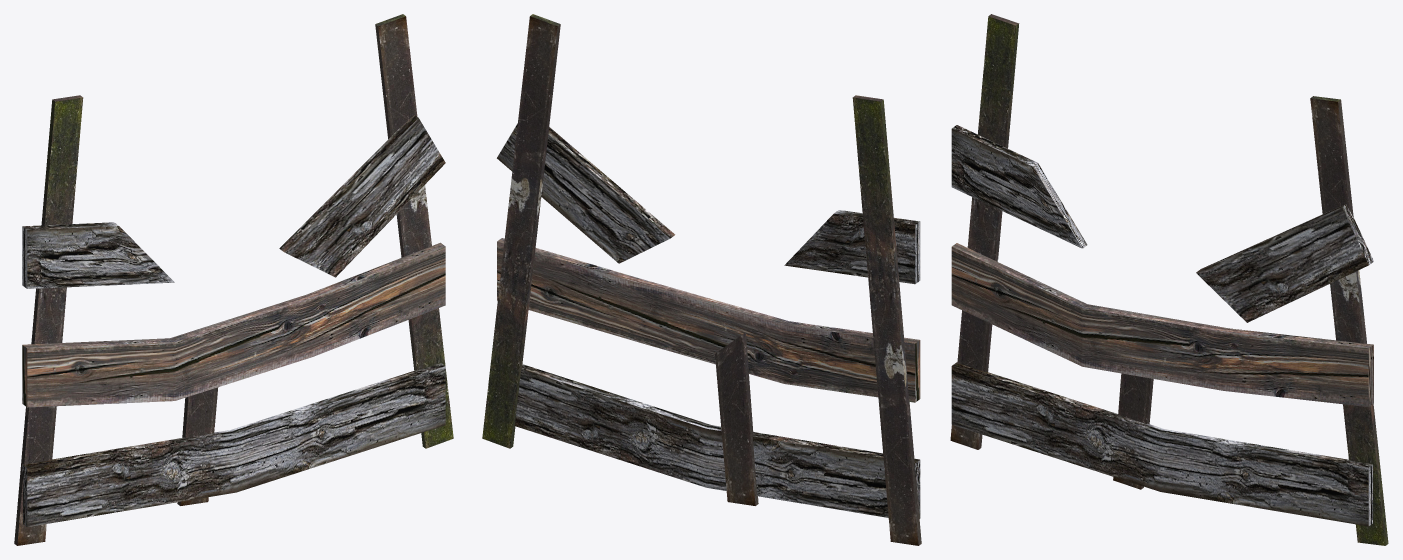
File: fence_04.fbx
The picture shows the model from 3 angles, left to right: view 1: azimuth 30°, elevation 25°; view 2: azimuth 150°, elevation 25°; view 3: azimuth 330°, elevation 25°; orthographic projection.
Visible parts, largest first — view 1: fence_04; view 2: fence_04; view 3: fence_04.
Part boxes in pixels (x1=…): fence_04: x1=14, y1=14, x2=453, y2=545; fence_04: x1=482, y1=14, x2=921, y2=545; fence_04: x1=950, y1=14, x2=1388, y2=545.
Bounding box in the file's own units: 3 × 2.88 × 0.1871.
